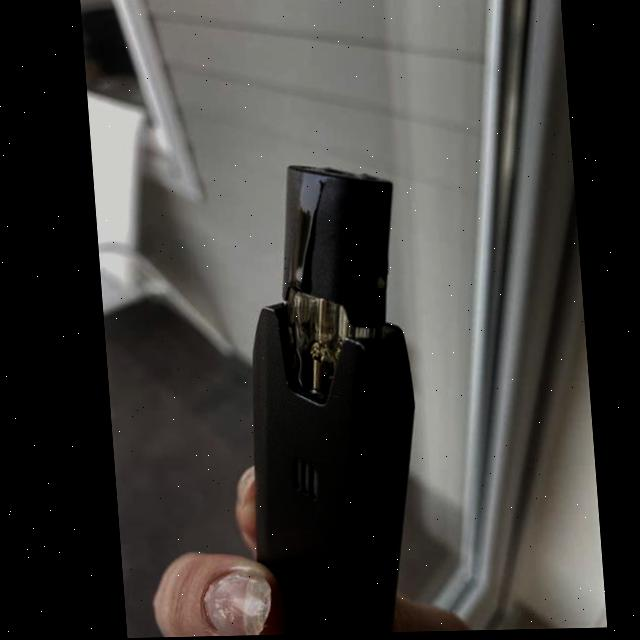vape: (226, 165, 426, 634)
